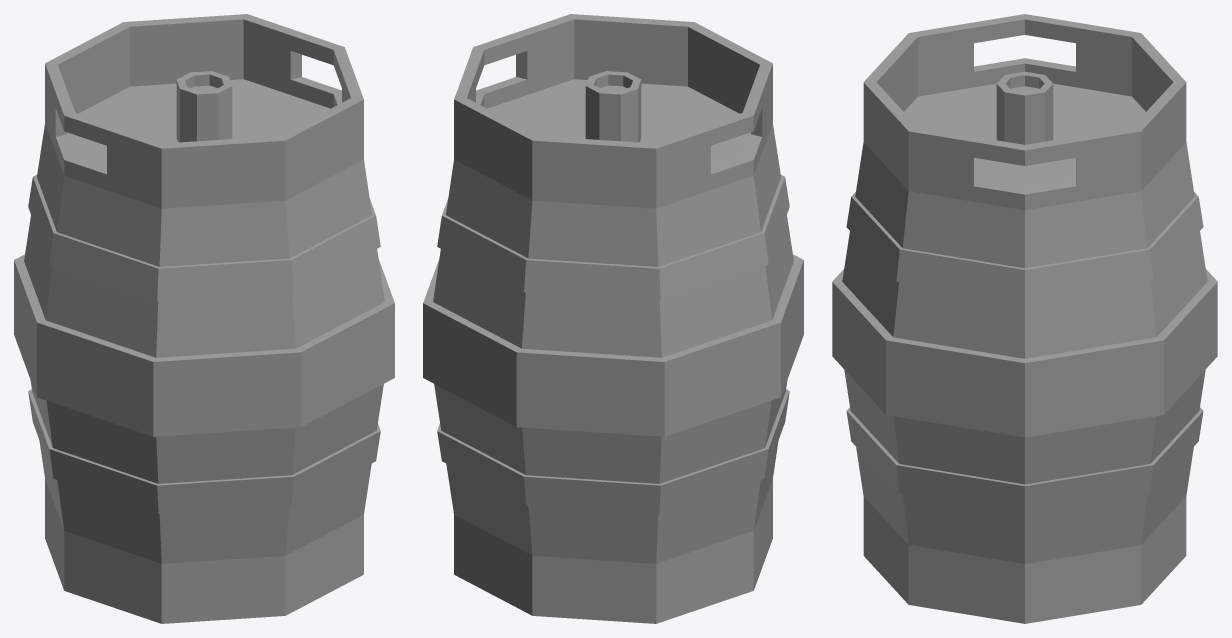
The model's file is feef7d4d-4424-422d-85c7-bd6a210ca822.glb.
The picture shows the model from 3 angles, left to right: view 1: azimuth 30°, elevation 25°; view 2: azimuth 150°, elevation 25°; view 3: azimuth 270°, elevation 25°; orthographic projection.
Parts seen in each view (by area): view 1: Cube.023_Cube.033; view 2: Cube.023_Cube.033; view 3: Cube.023_Cube.033.
Boxes of the visible parts, x1,y1,x2,y2 form: Cube.023_Cube.033: (14,14,394,623); Cube.023_Cube.033: (423,14,803,623); Cube.023_Cube.033: (832,14,1217,623).
Size of the model in its own units: 1.45 by 1.96 by 1.45.
Materials: 1 (1 with a texture image).
